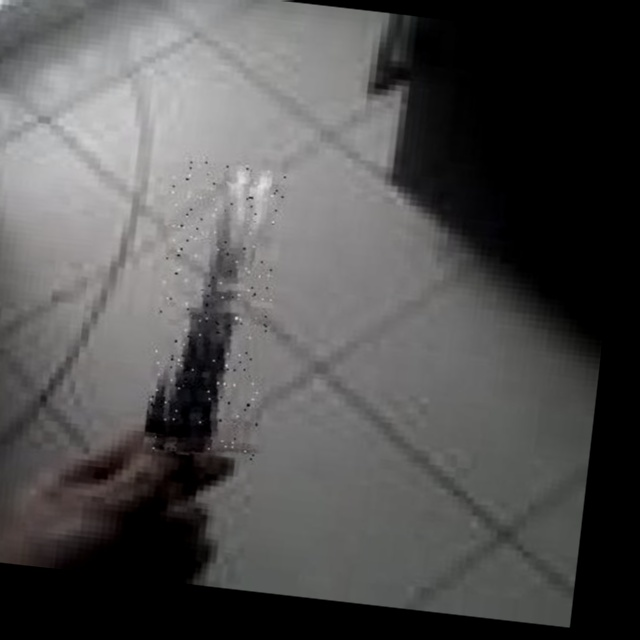Sharp-Object: (143, 155, 287, 460)
